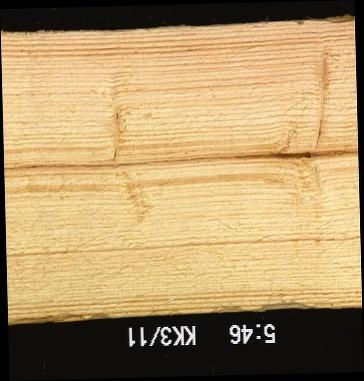split: (3, 151, 357, 166)
wave: (252, 301, 361, 310)
